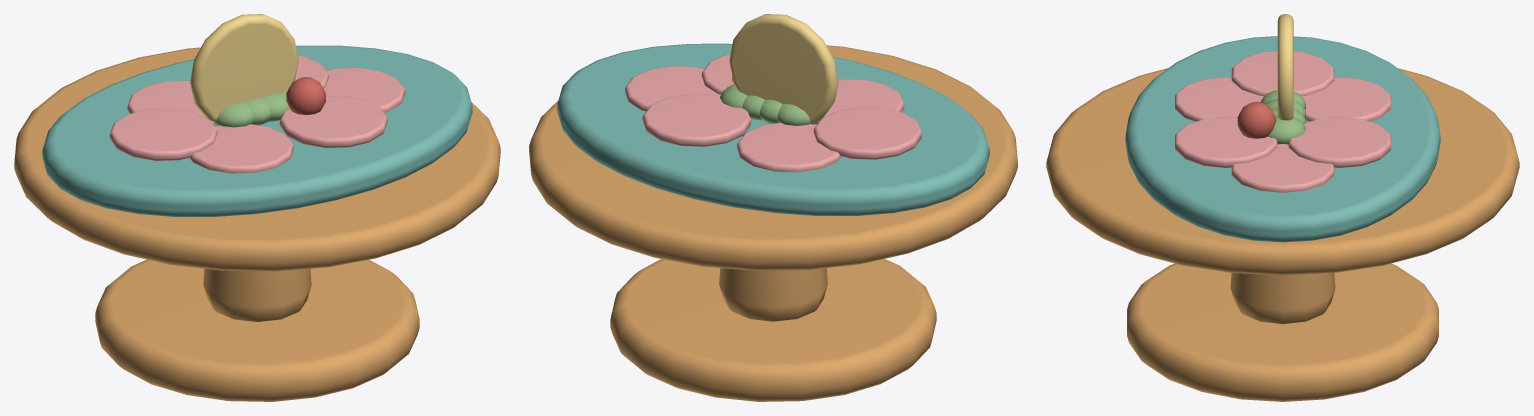
File: fish_carpaccio_plate.glb
The picture shows the model from 3 angles, left to right: view 1: azimuth 30°, elevation 25°; view 2: azimuth 150°, elevation 25°; view 3: azimuth 270°, elevation 25°; orthographic projection. The views are drawn at different scales.
Visible parts, largest first — view 1: fish_carpaccio_plate_mesh; view 2: fish_carpaccio_plate_mesh; view 3: fish_carpaccio_plate_mesh.
Part boxes in pixels (left/top/right/bottom): fish_carpaccio_plate_mesh: left=14, top=14, right=500, bottom=401; fish_carpaccio_plate_mesh: left=529, top=14, right=1017, bottom=401; fish_carpaccio_plate_mesh: left=1046, top=14, right=1519, bottom=401.
Bounding box in the file's own units: 0.36 × 0.265 × 0.36.
